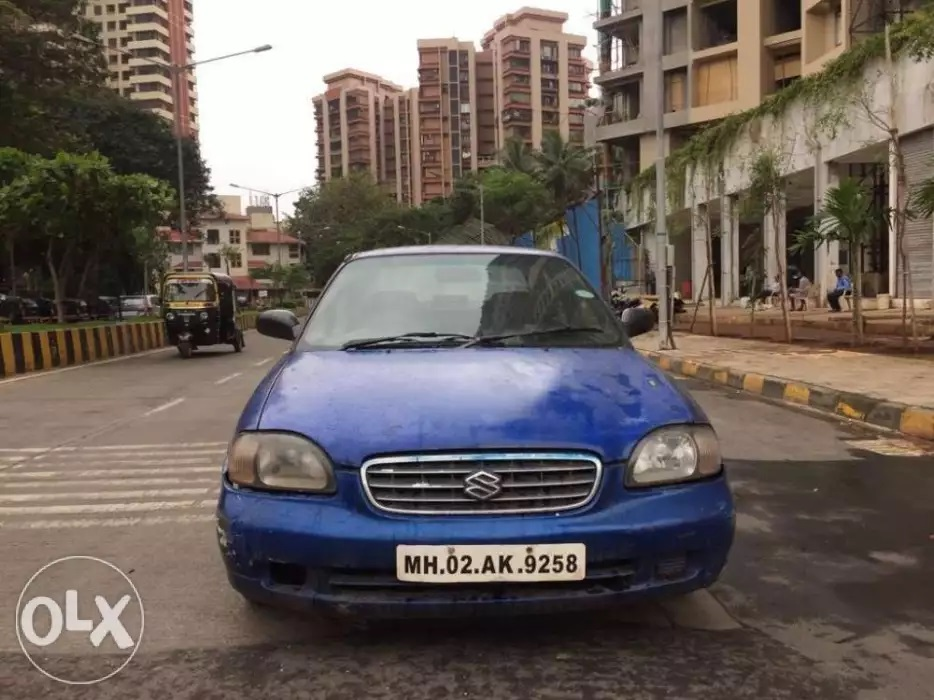licenseplate: (391, 537, 588, 585)
